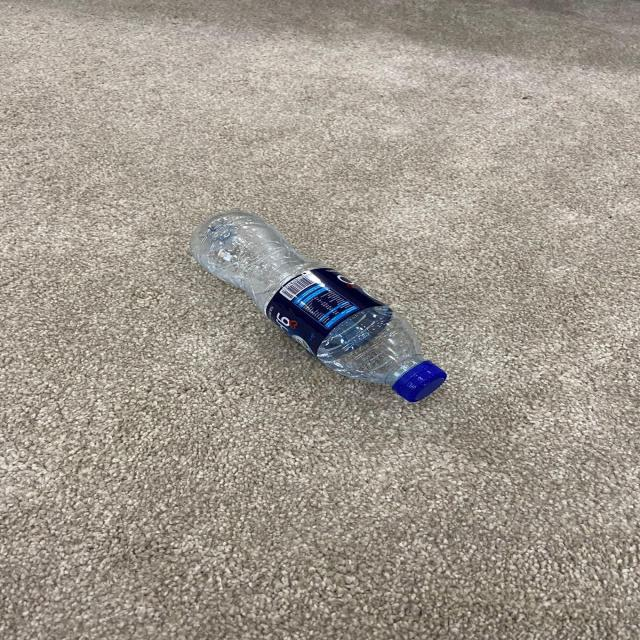bottle: (191, 208, 453, 405)
